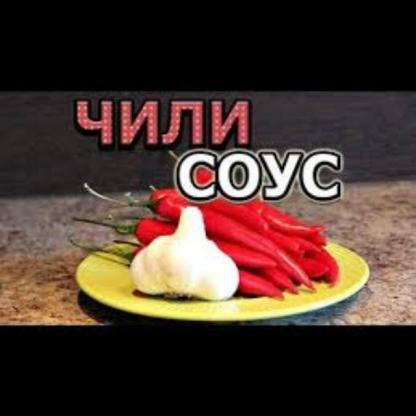garlic: (122, 207, 242, 297)
hot pepper: (90, 164, 344, 270)
